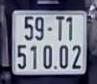0: (42, 43, 54, 71), (58, 44, 70, 70)
1: (29, 43, 38, 71), (66, 14, 74, 41)
2: (71, 42, 82, 71)
5: (16, 43, 28, 72), (23, 14, 34, 42)
9: (34, 15, 46, 42)
T: (55, 15, 65, 41)
